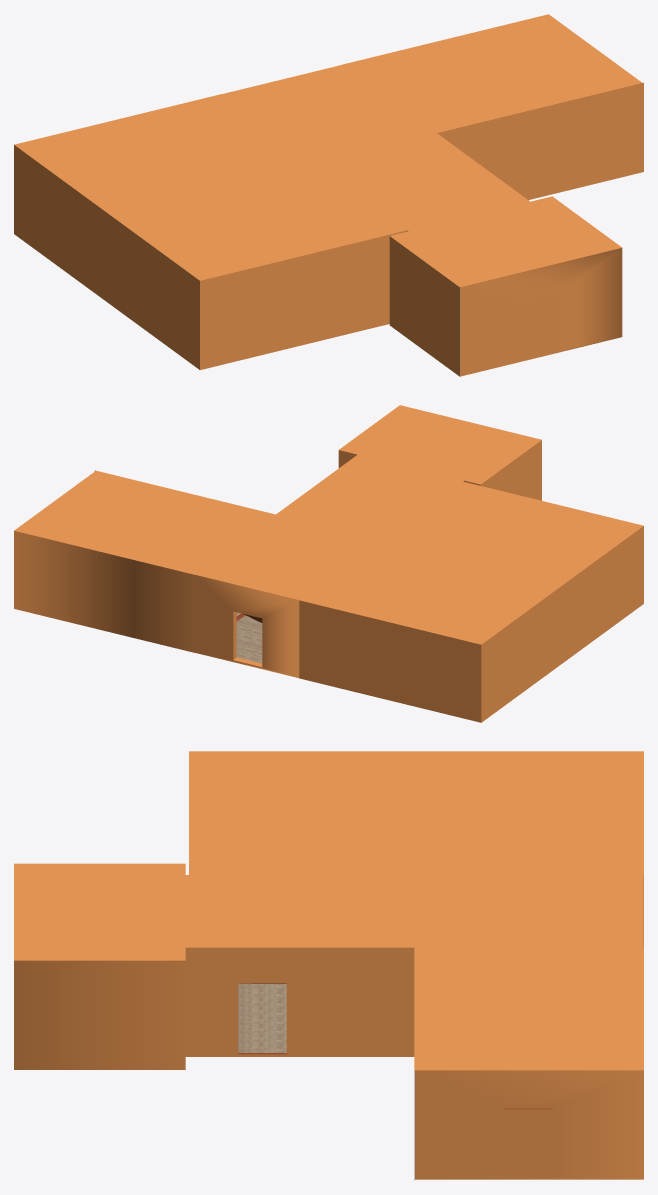
File: Home.fbx
The picture shows the model from 3 angles, top to bottom: view 1: azimuth 30°, elevation 25°; view 2: azimuth 150°, elevation 25°; view 3: azimuth 270°, elevation 25°; orthographic projection. The views are drawn at different scales.
Parts seen in each view (by area): view 1: Cube.001; view 2: Cube.001; view 3: Cube.001.
Boxes of the visible parts, <box> form: Cube.001: <box>14,14,643,376</box>; Cube.001: <box>14,405,643,722</box>; Cube.001: <box>14,751,643,1180</box>.
Bounding box in the file's own units: 1035 × 165 × 861.
12 materials, 2 textured.
